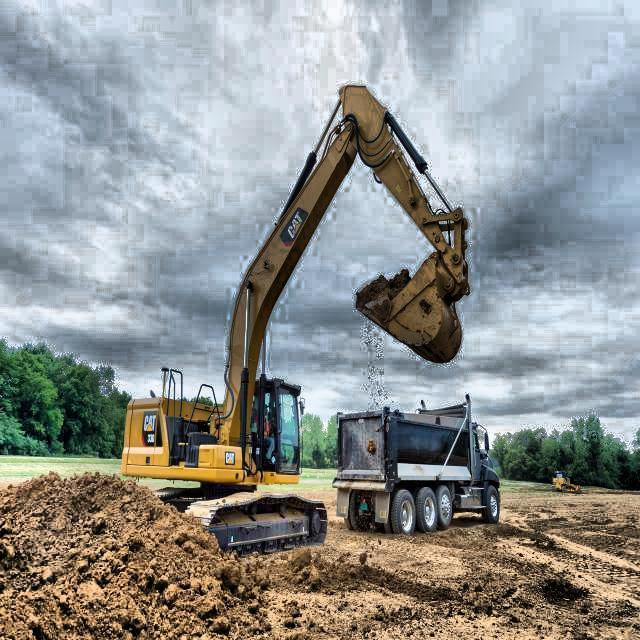excavator: (117, 82, 471, 556)
